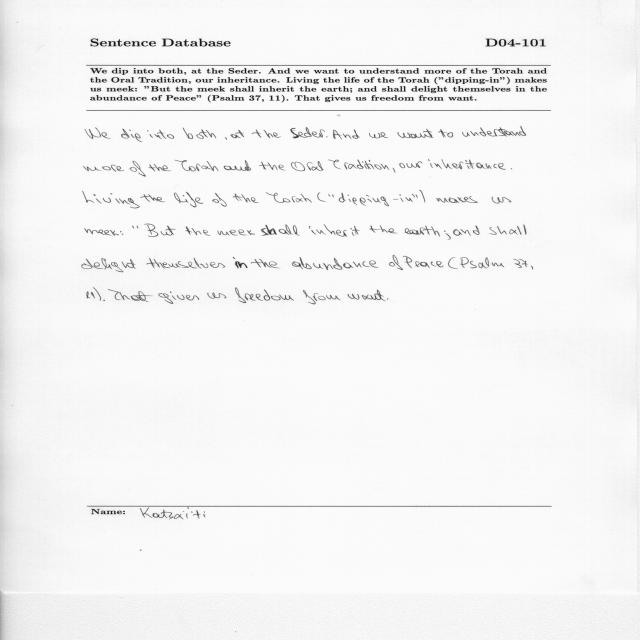word: (292, 257, 378, 270), (83, 191, 140, 208), (339, 193, 413, 206), (235, 288, 294, 303), (147, 258, 225, 269), (428, 160, 506, 170), (82, 258, 135, 272), (462, 126, 526, 137), (309, 224, 360, 237), (329, 160, 390, 170), (108, 289, 153, 302), (159, 291, 200, 304), (303, 290, 341, 304), (266, 192, 312, 203), (460, 257, 504, 268), (175, 160, 218, 171), (174, 192, 203, 207), (261, 225, 300, 236), (348, 290, 386, 301), (144, 224, 176, 237), (403, 256, 436, 268), (290, 127, 325, 138), (405, 226, 440, 237), (490, 225, 527, 235), (183, 128, 216, 139), (398, 129, 434, 138), (291, 161, 323, 171), (85, 127, 111, 139), (121, 128, 143, 142), (224, 160, 251, 171), (453, 225, 480, 236), (436, 196, 478, 203), (84, 165, 124, 172), (85, 228, 119, 236), (333, 130, 360, 140), (252, 129, 281, 138), (251, 259, 280, 268), (233, 193, 259, 203), (185, 226, 211, 236), (129, 161, 146, 176), (147, 130, 174, 139), (259, 162, 286, 171), (217, 230, 255, 236), (370, 226, 398, 234), (212, 193, 227, 207), (389, 255, 403, 270), (141, 194, 166, 202), (400, 161, 423, 168), (149, 164, 171, 171), (233, 257, 247, 268), (438, 129, 453, 138), (513, 259, 528, 268), (492, 197, 511, 204), (448, 257, 458, 269), (369, 133, 388, 139), (208, 293, 227, 299), (231, 130, 244, 138), (93, 288, 101, 301), (317, 193, 326, 202), (419, 190, 425, 203), (444, 231, 451, 240), (87, 292, 95, 299), (437, 261, 444, 267), (329, 194, 334, 198), (412, 194, 417, 198), (132, 226, 138, 229), (393, 168, 396, 173), (120, 231, 123, 235), (225, 137, 227, 140), (531, 266, 533, 269), (326, 137, 328, 138), (103, 300, 105, 301), (511, 169, 512, 170), (387, 299, 388, 300)
